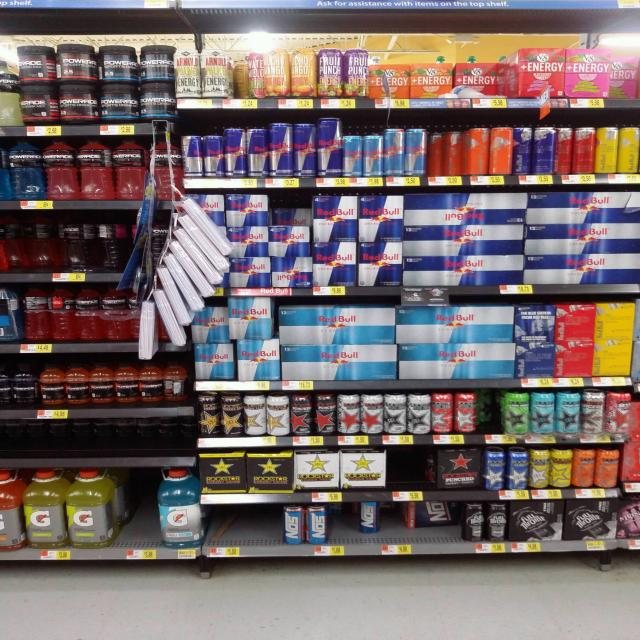empty: (114, 468, 158, 543), (212, 510, 286, 543), (390, 449, 438, 499), (328, 502, 358, 546), (378, 502, 398, 535)
